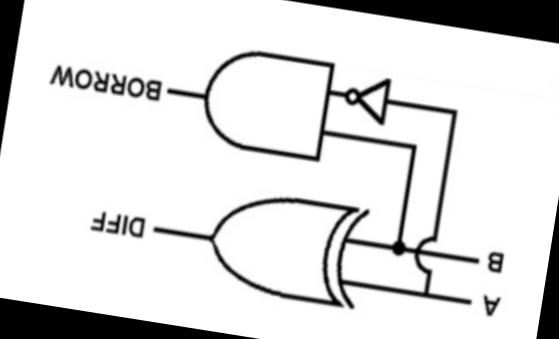and: (188, 32, 340, 169)
not: (338, 61, 402, 134)
xor: (192, 172, 377, 316)
